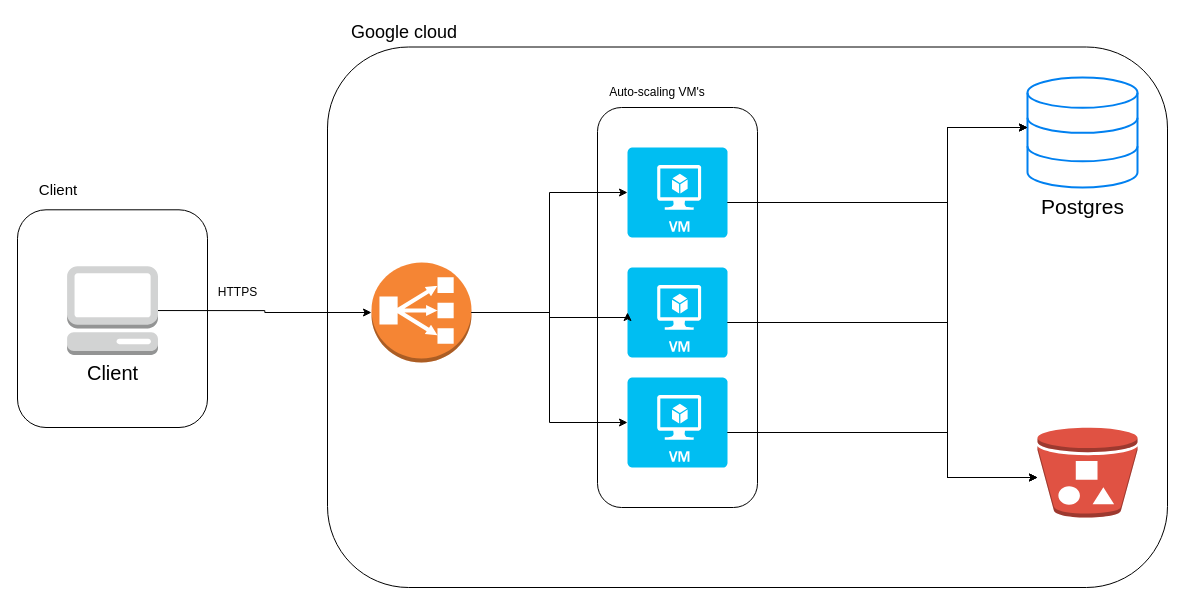
The diagram is 1185 pixels wide and 605 high, and some of its shapes have lost their labels. The centre of each missing label's shape, as x and y in pixels:
Cloud storage (Bucket): [1087,472]
Load Balancer: [421,312]
